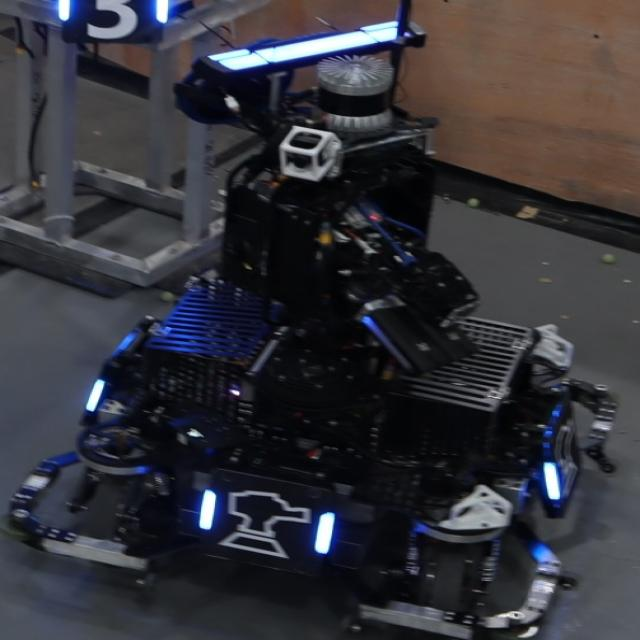B3: (56, 1, 167, 39)
Bs: (196, 485, 335, 559), (537, 411, 586, 502)
